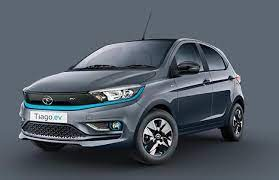Tiago: (12, 35, 247, 166)
